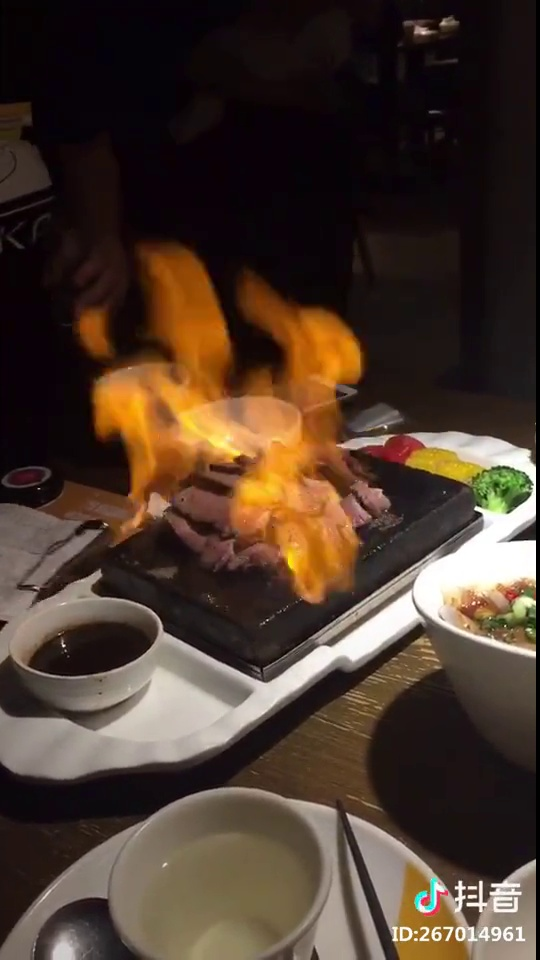fire: (95, 244, 370, 488)
